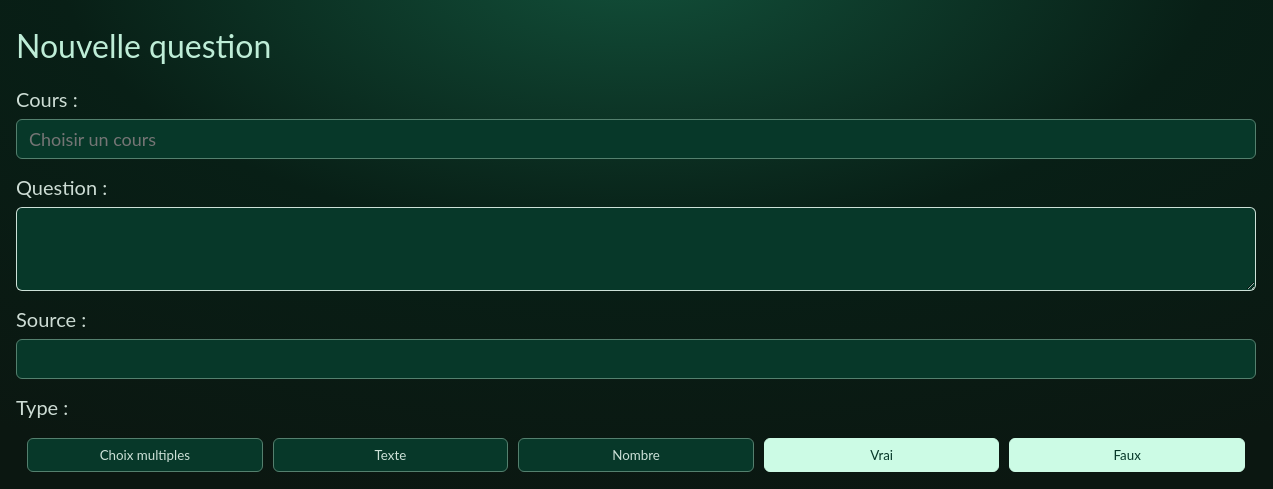
Scenario: NewQuestion › filtre et sélectionne un cours dans le combobox
Type "Math" into the dropdown labelled "Cours :". click: (636,139)
box: x1=16 y1=119 x2=1256 y2=159
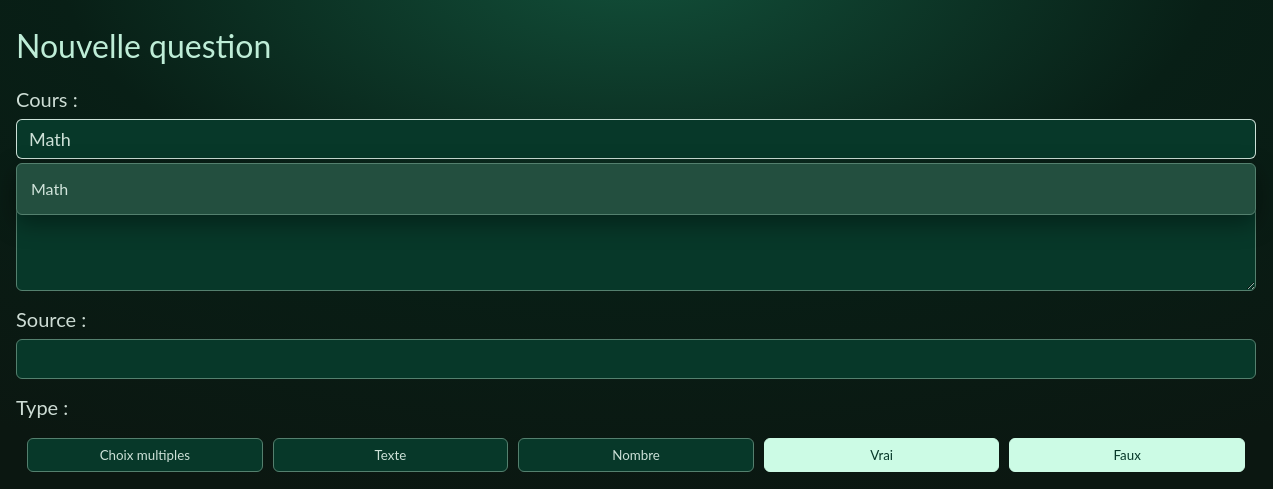
Check: the option "Math" is shown
Click the option "Math". click: (50,189)
box: x1=31 y1=179 x2=68 y2=198
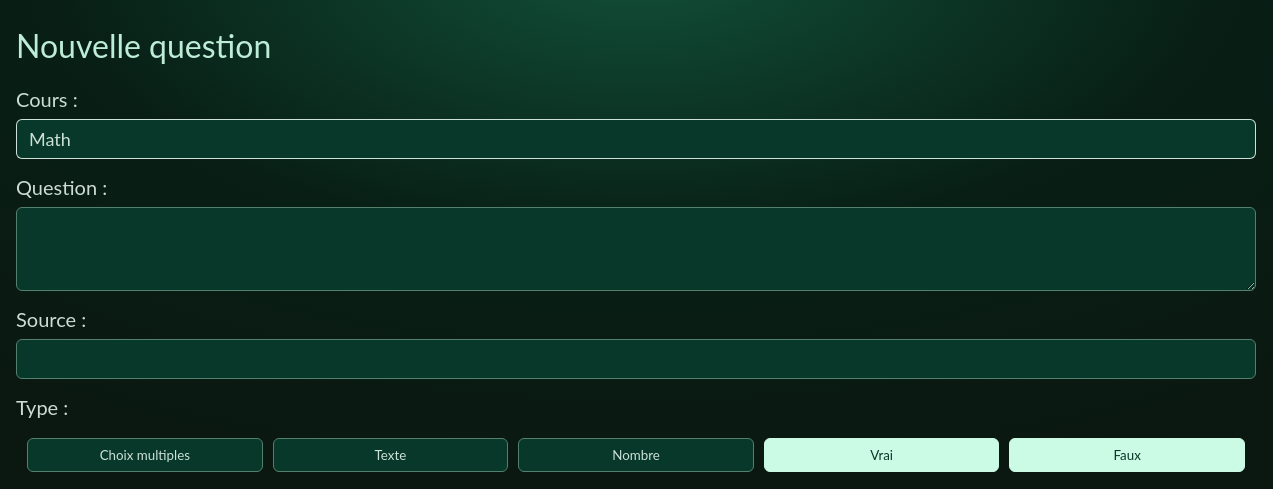
Check: the list is gone
